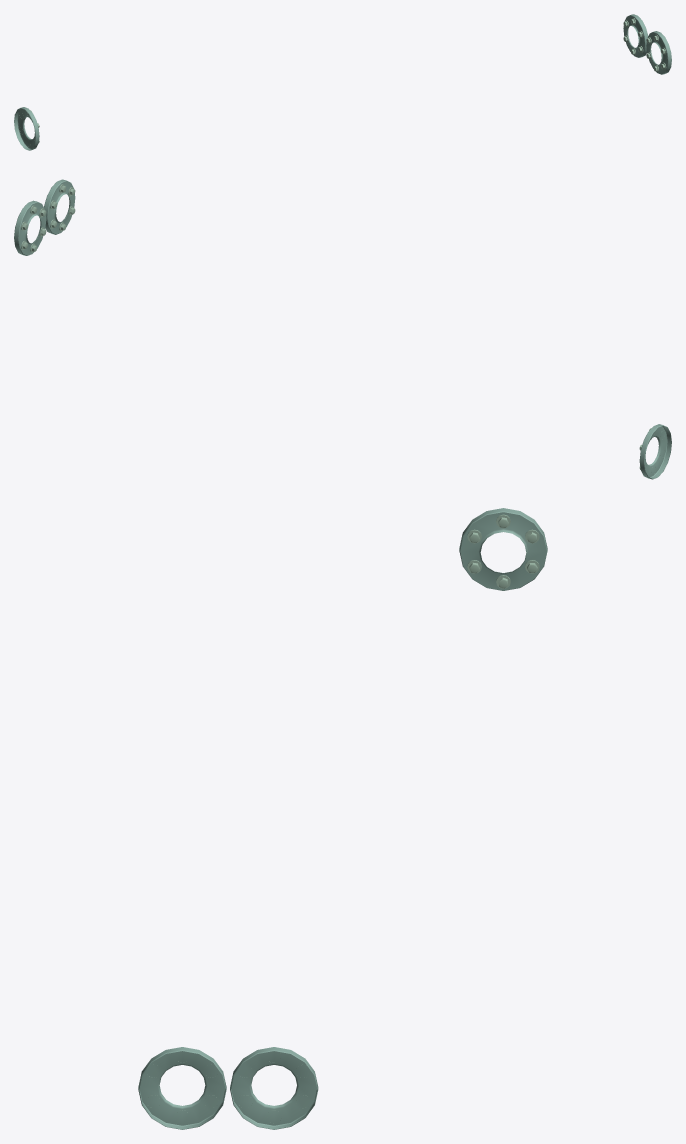
Rendered from PipeComplexLarge_A3_15_End.fbx.
The picture shows the model from 3 angles, top to bottom: view 1: azimuth 30°, elevation 25°; view 2: azimuth 150°, elevation 25°; view 3: azimuth 270°, elevation 25°; orthographic projection. The views are drawn at different scales.
Parts seen in each view (by area): view 1: PipeComplexLarge_A3_15_End.001; view 2: PipeComplexLarge_A3_15_End.001; view 3: PipeComplexLarge_A3_15_End.001.
Part boxes in pixels (<box>): PipeComplexLarge_A3_15_End.001: <box>14,14,671,150</box>; PipeComplexLarge_A3_15_End.001: <box>14,179,671,479</box>; PipeComplexLarge_A3_15_End.001: <box>138,508,547,1129</box>.
Bounding box in the file's own units: 5.6 × 0.3846 × 1.78.
